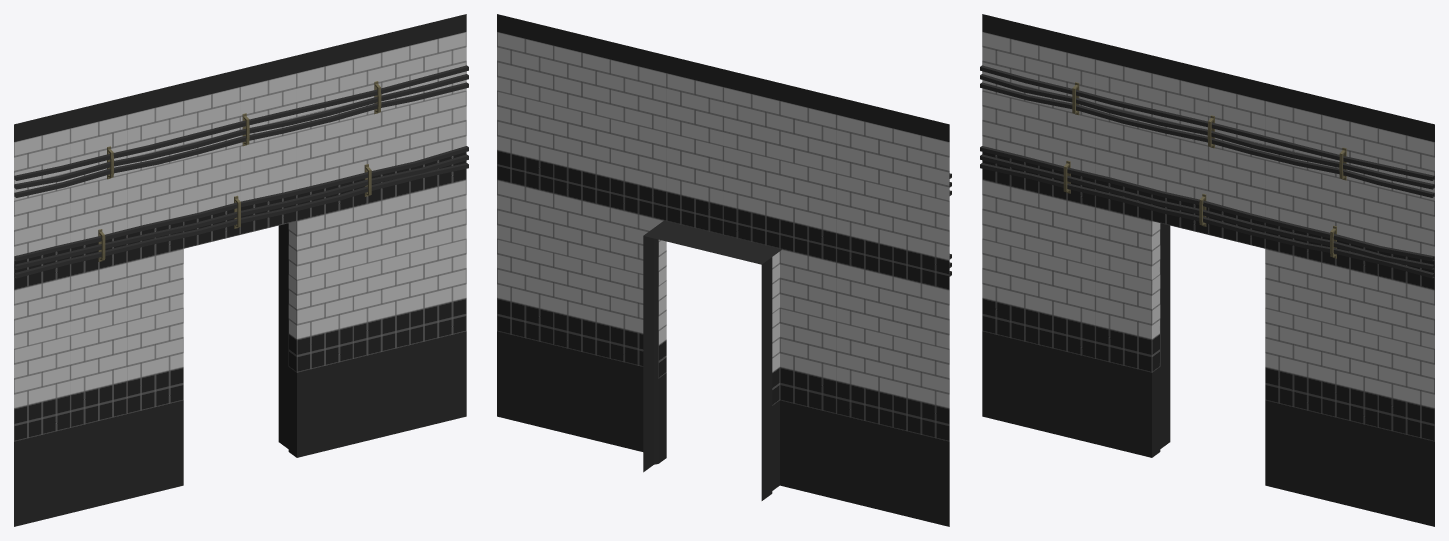
File: SW_ENV_StationTunnel_Wall_A_03a_05m_FF.fbx
The picture shows the model from 3 angles, left to right: view 1: azimuth 30°, elevation 25°; view 2: azimuth 150°, elevation 25°; view 3: azimuth 330°, elevation 25°; orthographic projection.
Visible parts, largest first — view 1: SW_ENV_StationTunnel_Wall_A_03a_05m_FF; view 2: SW_ENV_StationTunnel_Wall_A_03a_05m_FF; view 3: SW_ENV_StationTunnel_Wall_A_03a_05m_FF.
Boxes of the visible parts, <box> form: SW_ENV_StationTunnel_Wall_A_03a_05m_FF: <box>14,14,468,526</box>; SW_ENV_StationTunnel_Wall_A_03a_05m_FF: <box>497,14,951,526</box>; SW_ENV_StationTunnel_Wall_A_03a_05m_FF: <box>980,14,1434,526</box>.
Size of the model in its own units: 500 by 425 by 47.06.
